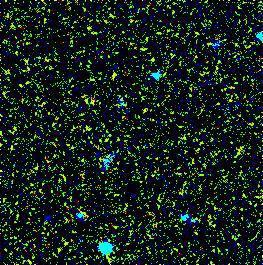star: (97, 61, 127, 91)
